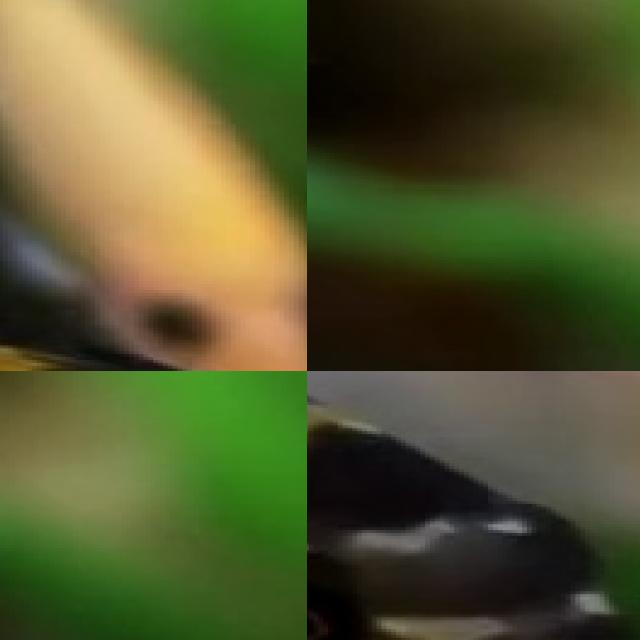fish: (0, 0, 307, 371), (307, 371, 640, 640)
